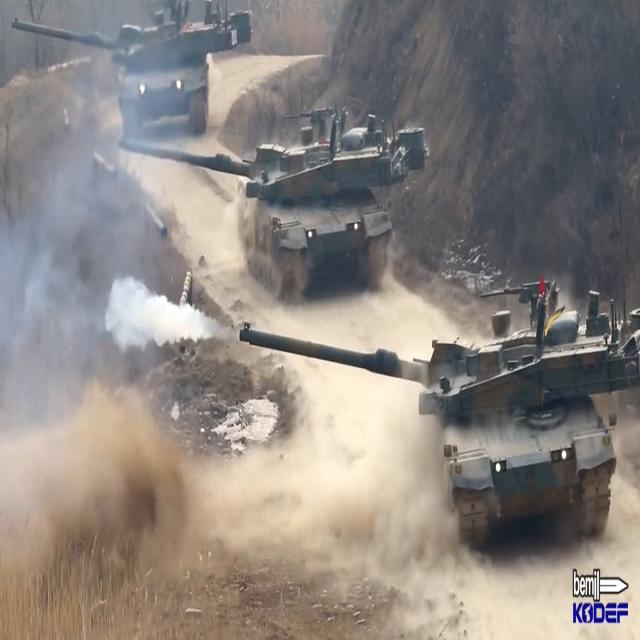korea tank: (236, 274, 640, 548)
